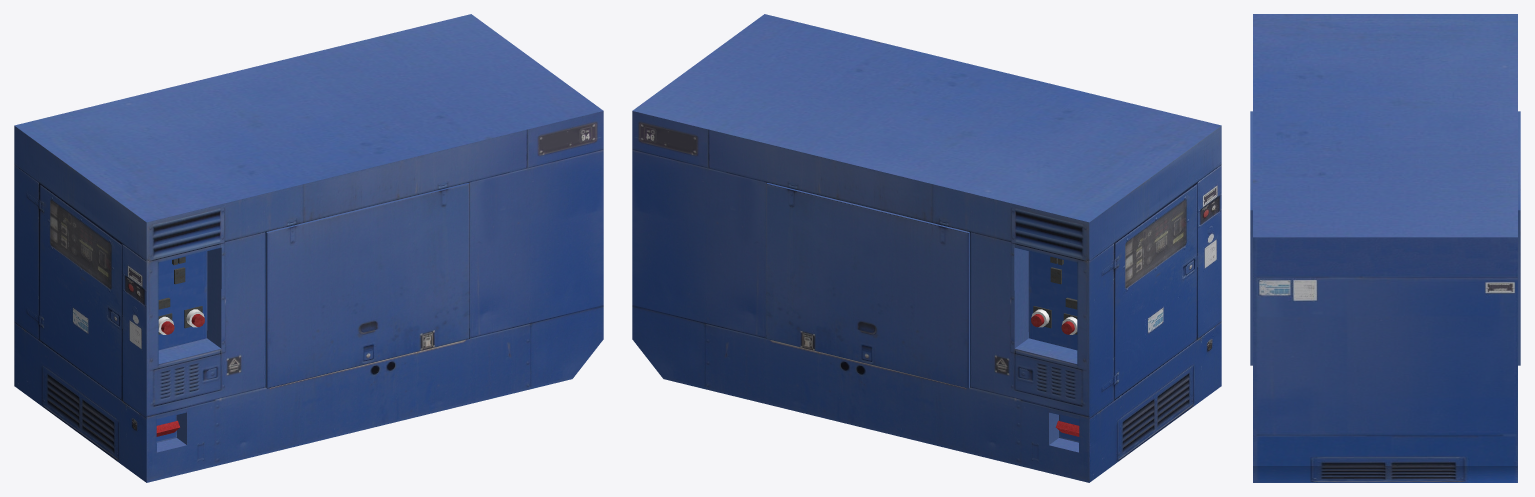
File: Generator & Engine_01.obj
3 views of the same model, side by side, from view 1: azimuth 30°, elevation 25°; view 2: azimuth 150°, elevation 25°; view 3: azimuth 270°, elevation 25° (orthographic).
Parts seen in each view (by area): view 1: Generator 01, Panel 02; view 2: Generator 01, Panel 01; view 3: Generator 01, Panel 02, Panel 01.
Boxes of the visible parts, bbox=[...] form: Generator 01: bbox=[14, 14, 603, 482]; Panel 02: bbox=[266, 183, 469, 388]; Generator 01: bbox=[632, 14, 1221, 482]; Panel 01: bbox=[766, 183, 969, 388]; Generator 01: bbox=[1253, 14, 1517, 482]; Panel 02: bbox=[1250, 111, 1252, 365]; Panel 01: bbox=[1518, 111, 1520, 365].
Bounding box in the file's own units: 3.66 × 1.99 × 1.87.
